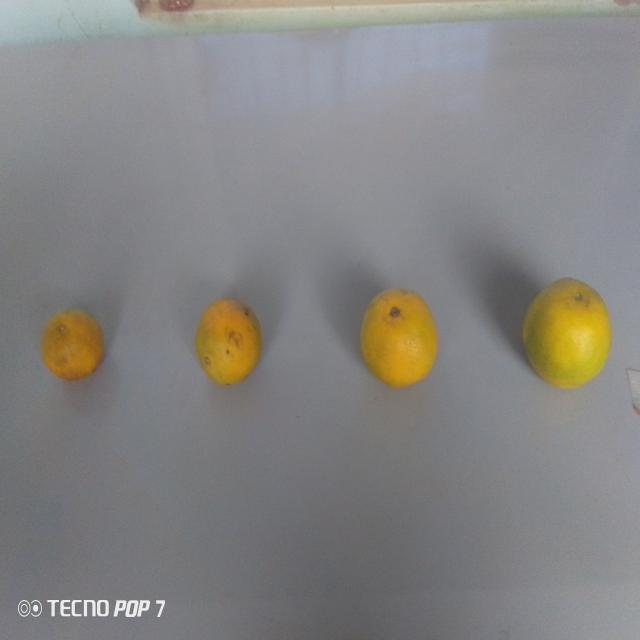Ripe orange: (520, 268, 620, 393), (351, 280, 445, 395), (188, 288, 270, 401), (32, 297, 107, 396)
